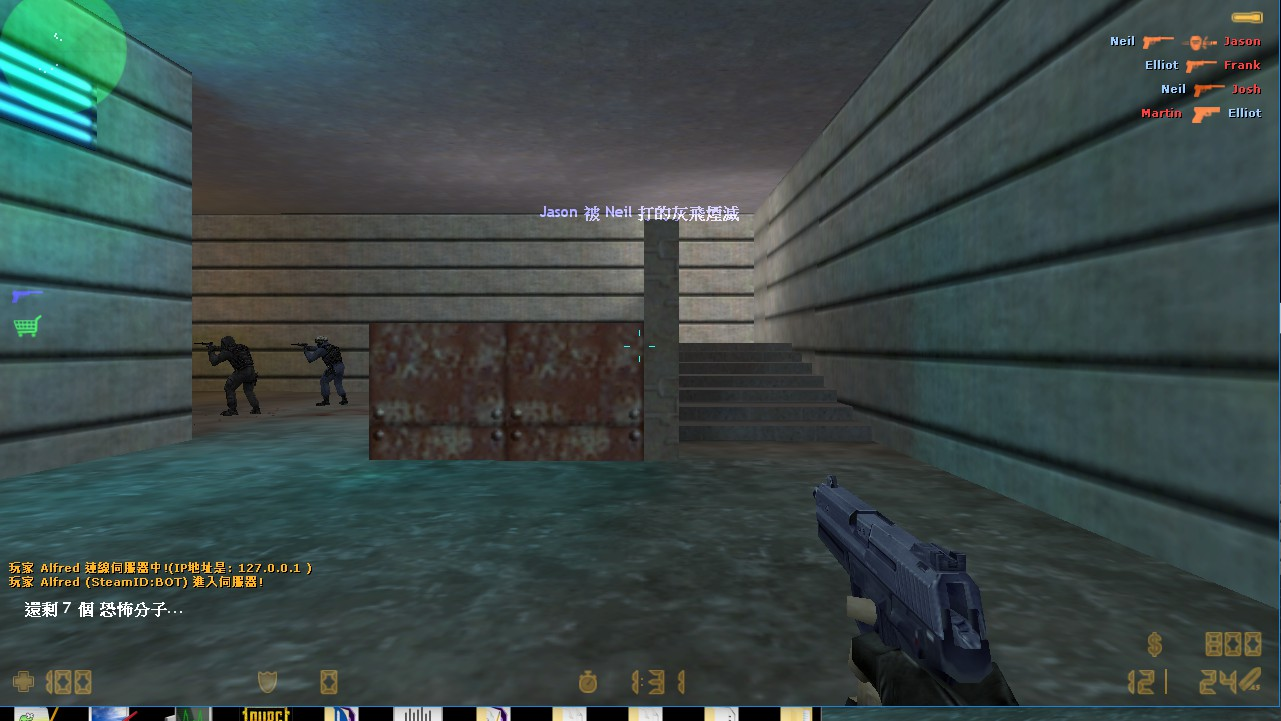person: (204, 327, 259, 418), (305, 330, 349, 411)
